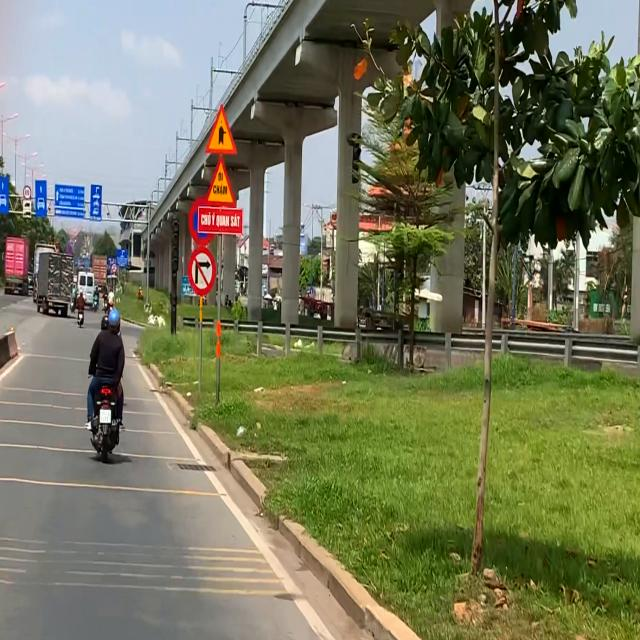Cam re phai: (188, 246, 215, 295)
Giao voi duong khong uu tien: (204, 102, 238, 156)
Nguy hiem: (204, 156, 238, 208)
